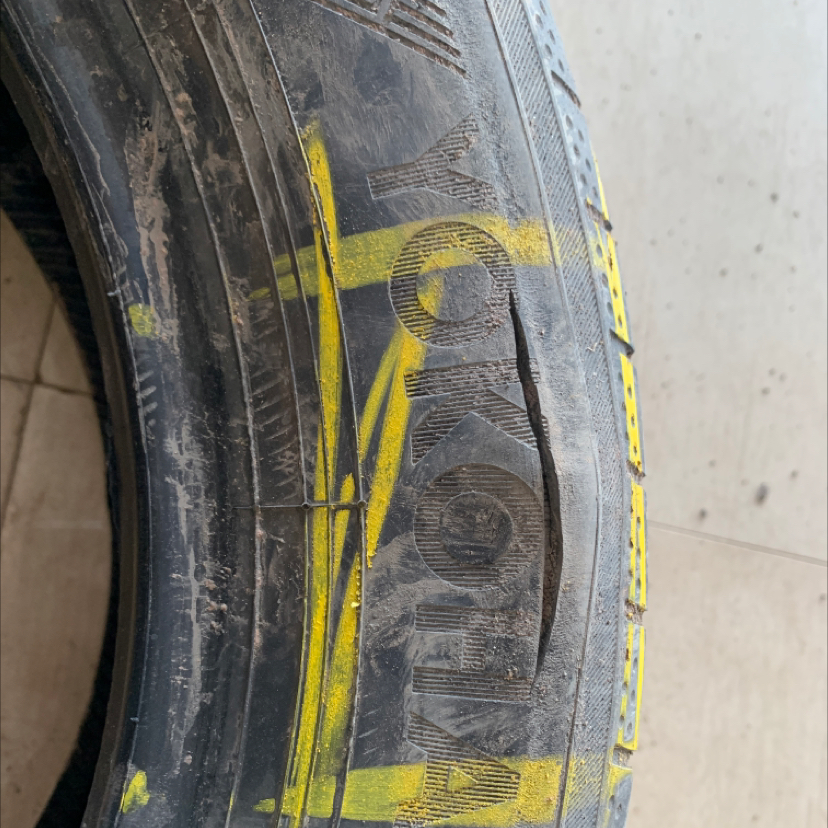cut: (506, 287, 571, 695)
